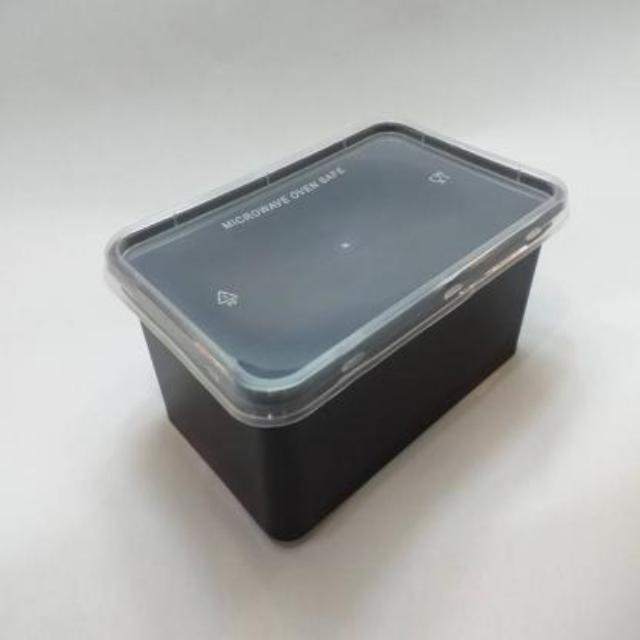plastic_box: (107, 119, 559, 546)
